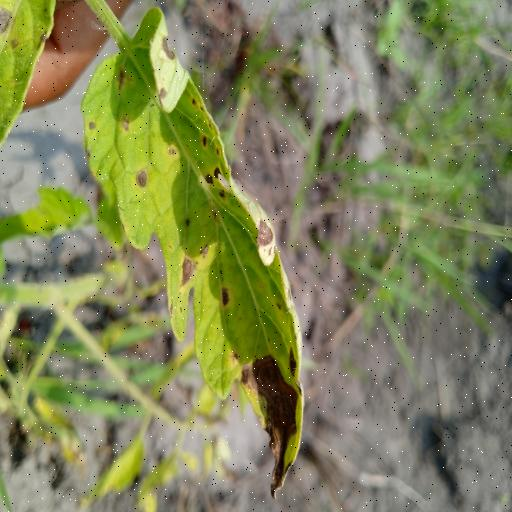Tomato_Brown_Spots: (83, 0, 310, 503)
